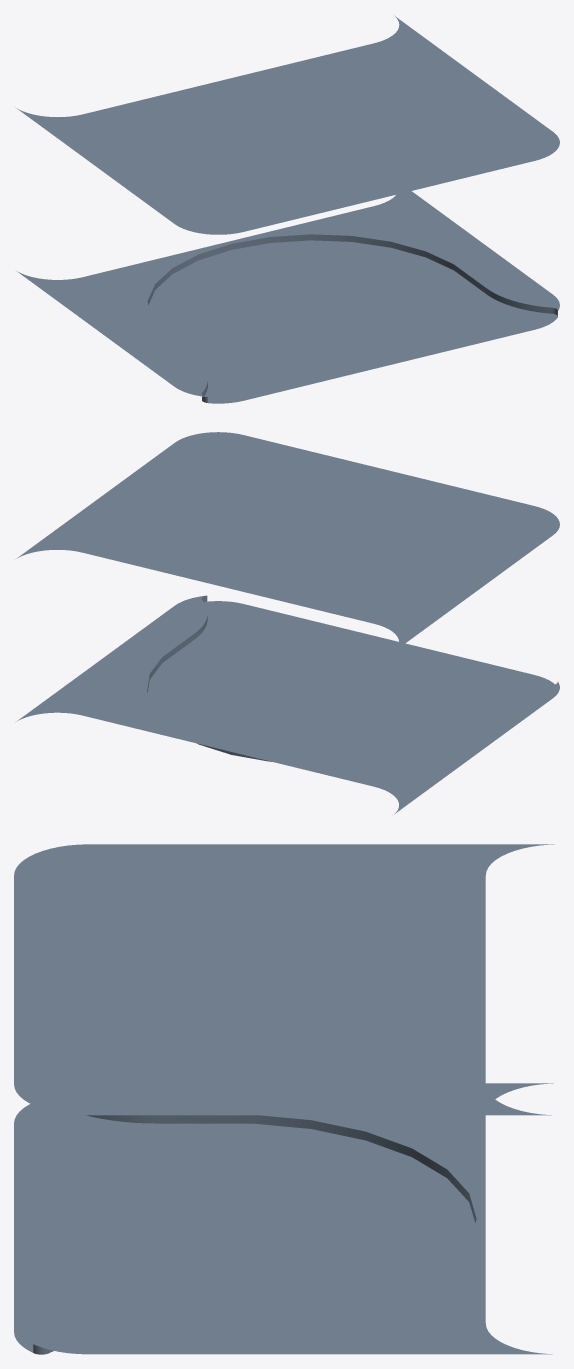
Rendered from original-1_0.obj.
3 views of the same model, one above another, from view 1: azimuth 30°, elevation 25°; view 2: azimuth 150°, elevation 25°; view 3: azimuth 270°, elevation 25° (orthographic). The views are drawn at different scales.
Bounding box in the file's own units: 0.4275 × 0.1823 × 0.3639.
